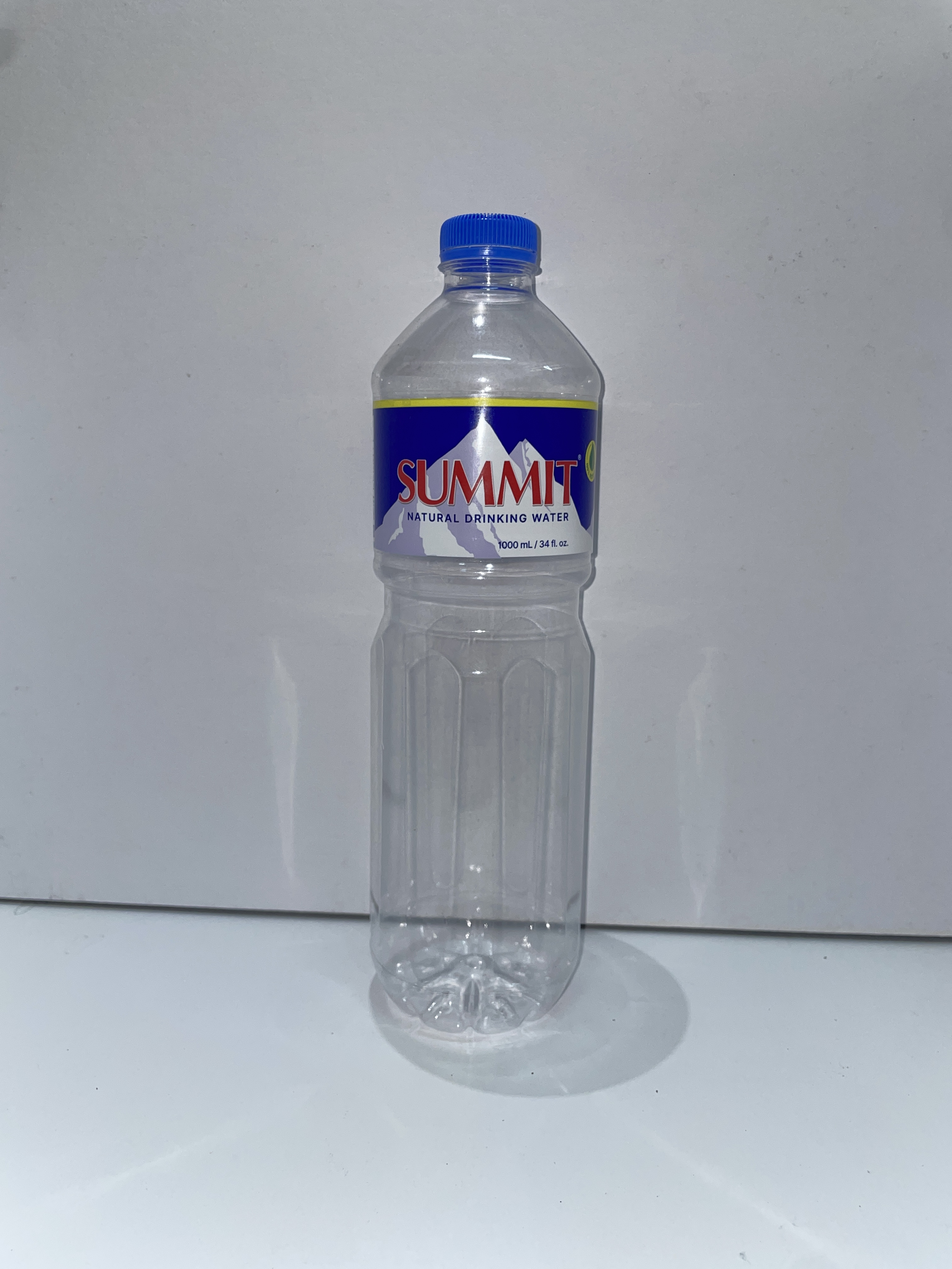Summit 1000ml: (371, 214, 603, 1034)
